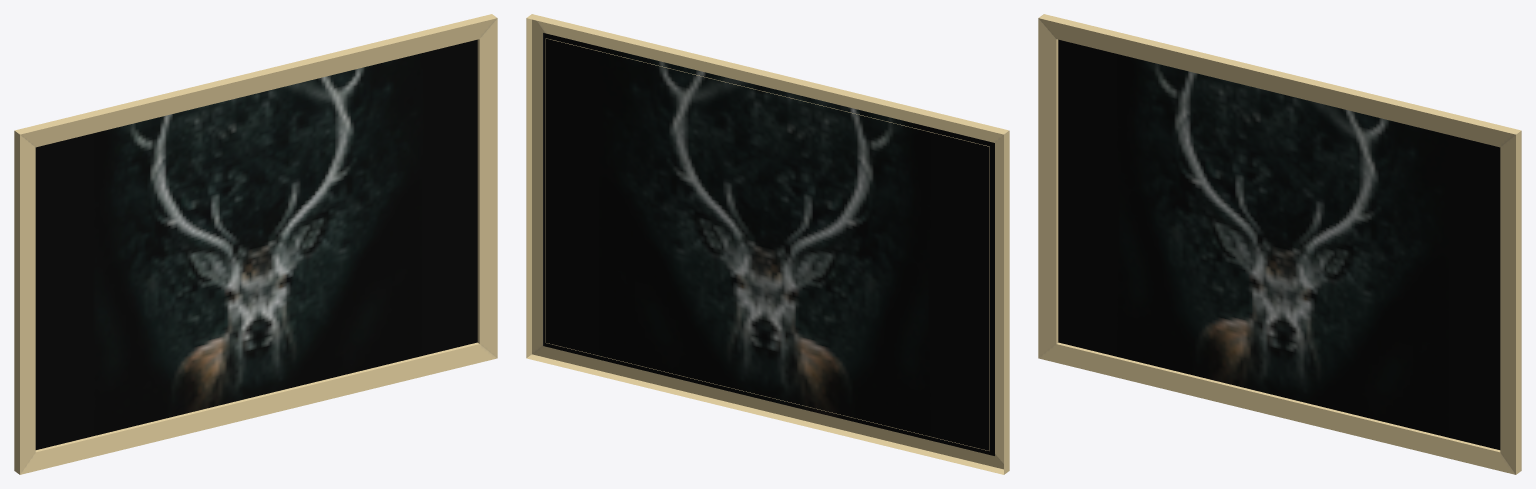
Rendered from Prop_PictureTable_7.fbx.
The picture shows the model from 3 angles, left to right: view 1: azimuth 30°, elevation 25°; view 2: azimuth 150°, elevation 25°; view 3: azimuth 330°, elevation 25°; orthographic projection.
Parts seen in each view (by area): view 1: Prop_PictureTable_7; view 2: Prop_PictureTable_7; view 3: Prop_PictureTable_7.
Part boxes in pixels (x1=…): Prop_PictureTable_7: x1=14, y1=14, x2=497, y2=474; Prop_PictureTable_7: x1=526, y1=14, x2=1009, y2=474; Prop_PictureTable_7: x1=1038, y1=14, x2=1521, y2=474.
Bounding box in the file's own units: 34.09 × 23.21 × 0.6954.
